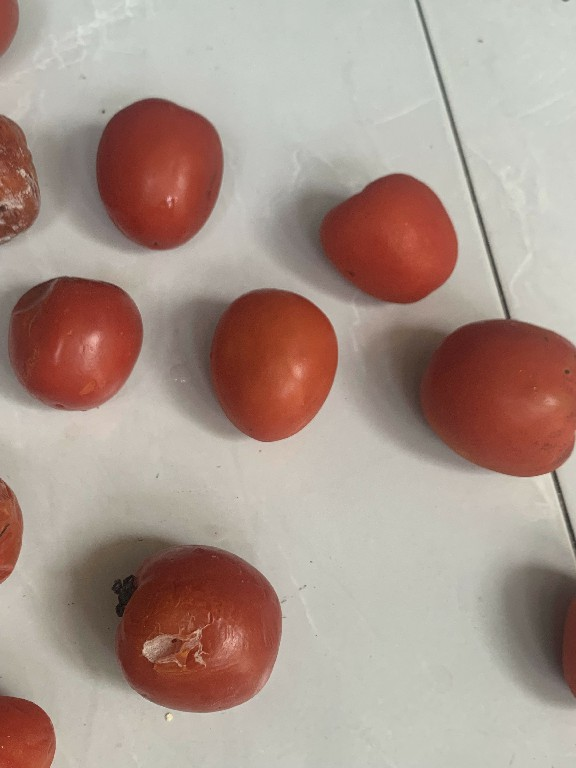NG: (99, 534, 285, 716)
OK: (418, 308, 575, 491), (203, 274, 340, 451), (0, 255, 146, 419), (92, 81, 228, 257), (311, 166, 465, 312)
